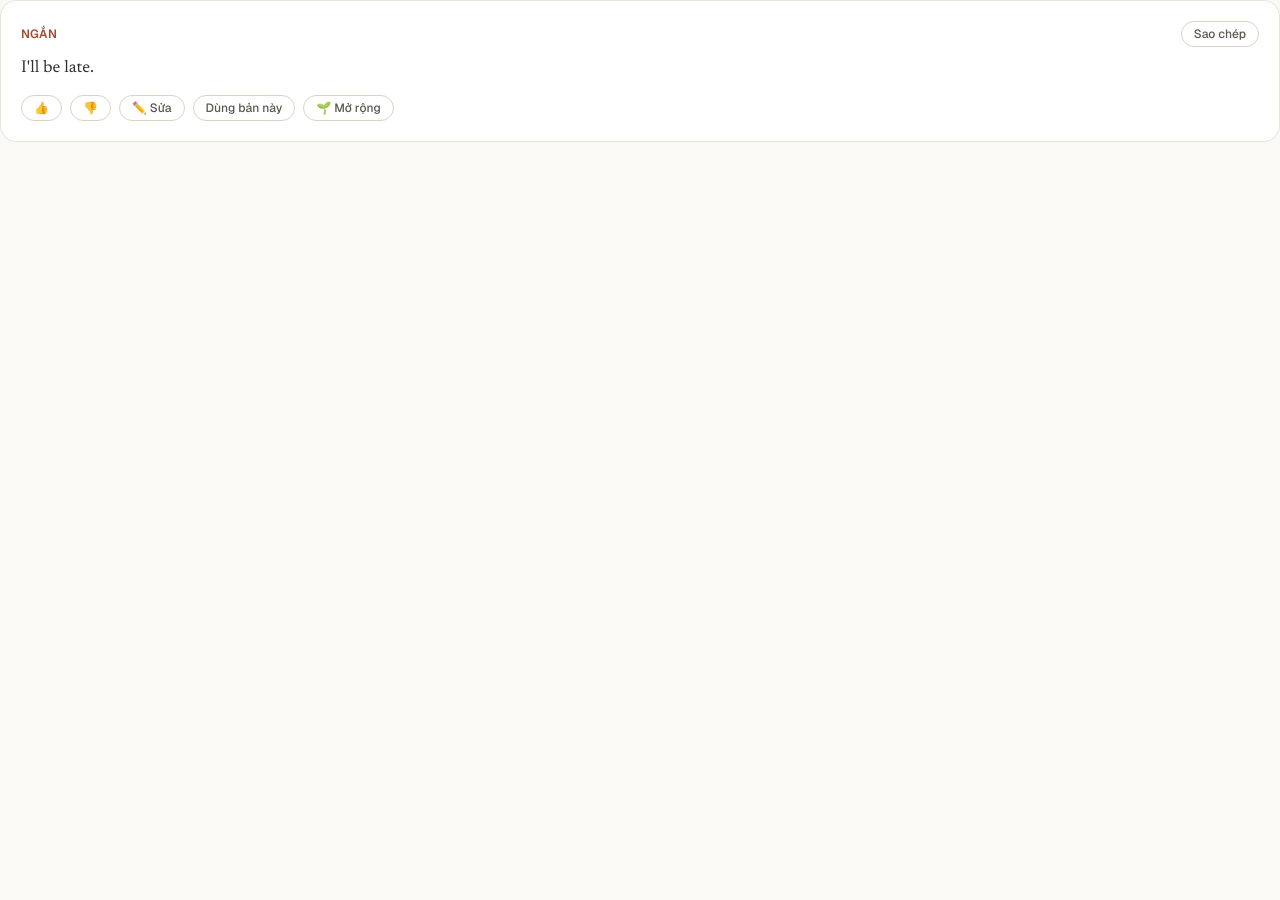
Test case: DevelopableOption › does not list a version twice when it was also made in this session
Expected: the button named "Bản nháp hay" is shown, [21, 95, 62, 121]
Click the button with aria-label "Mở rộng bản nháp này" at (349, 108), box [303, 95, 394, 121]
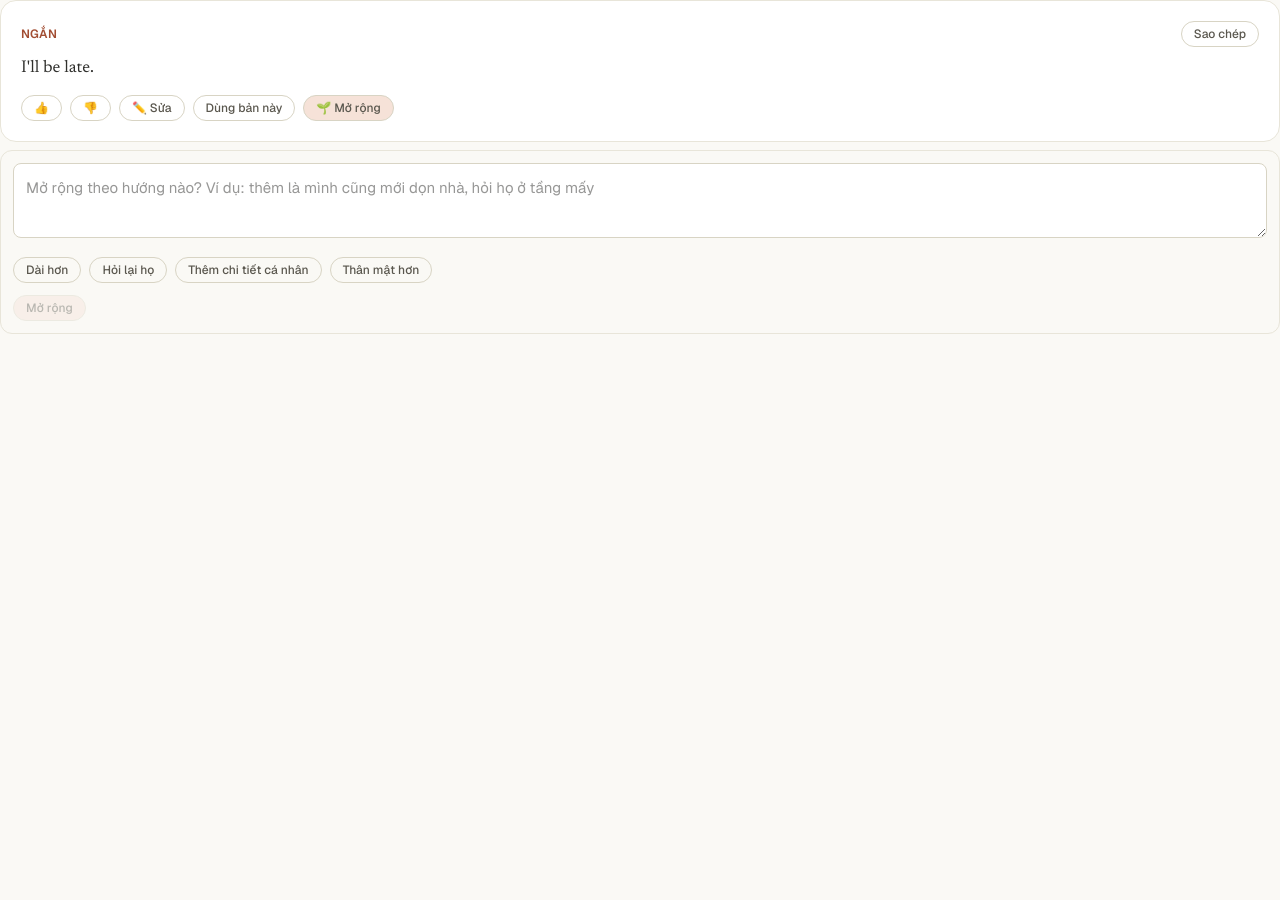
Click the button "Dài hơn" at (47, 270), box [13, 257, 81, 283]
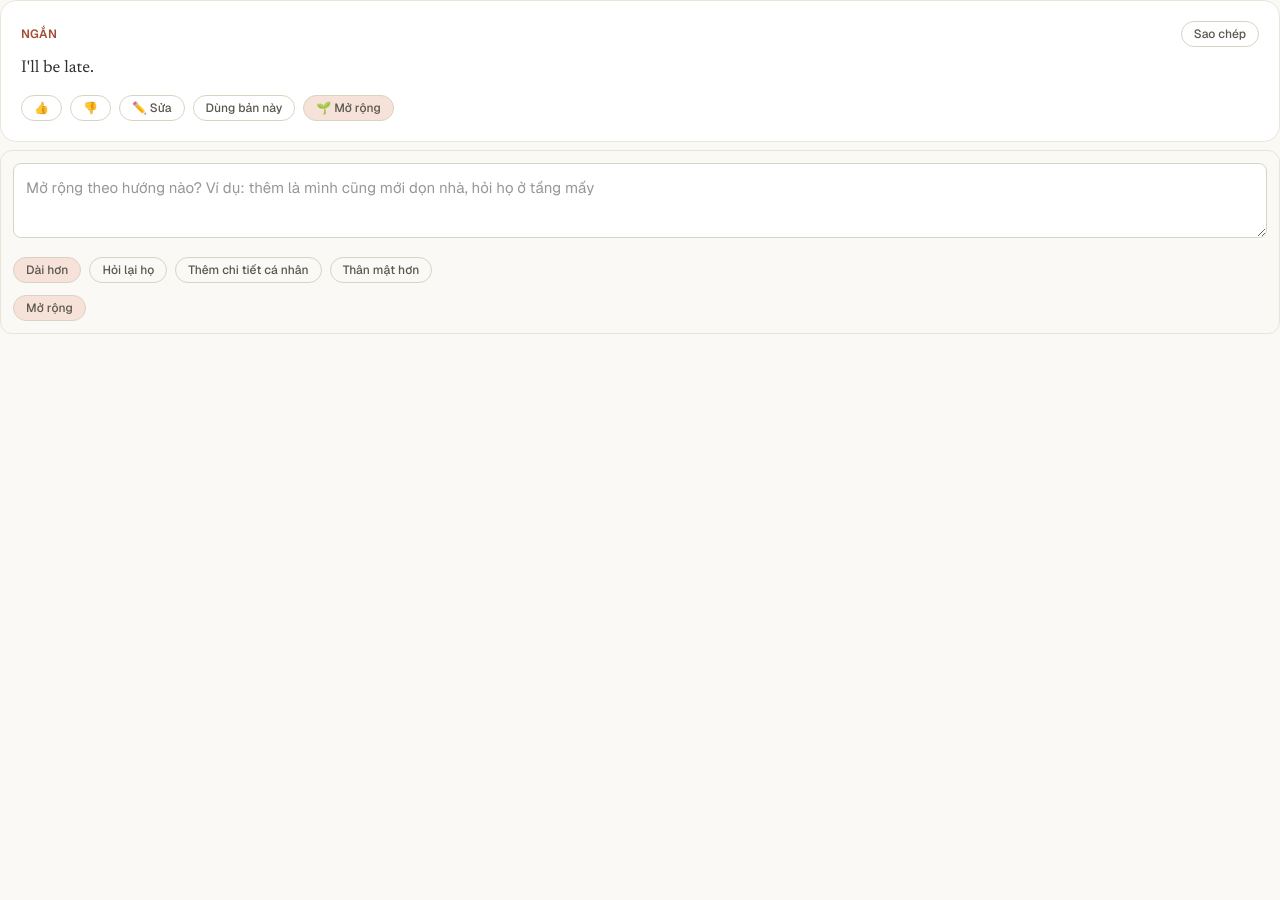
Click the button "Mở rộng" at (49, 308), box [13, 295, 86, 321]
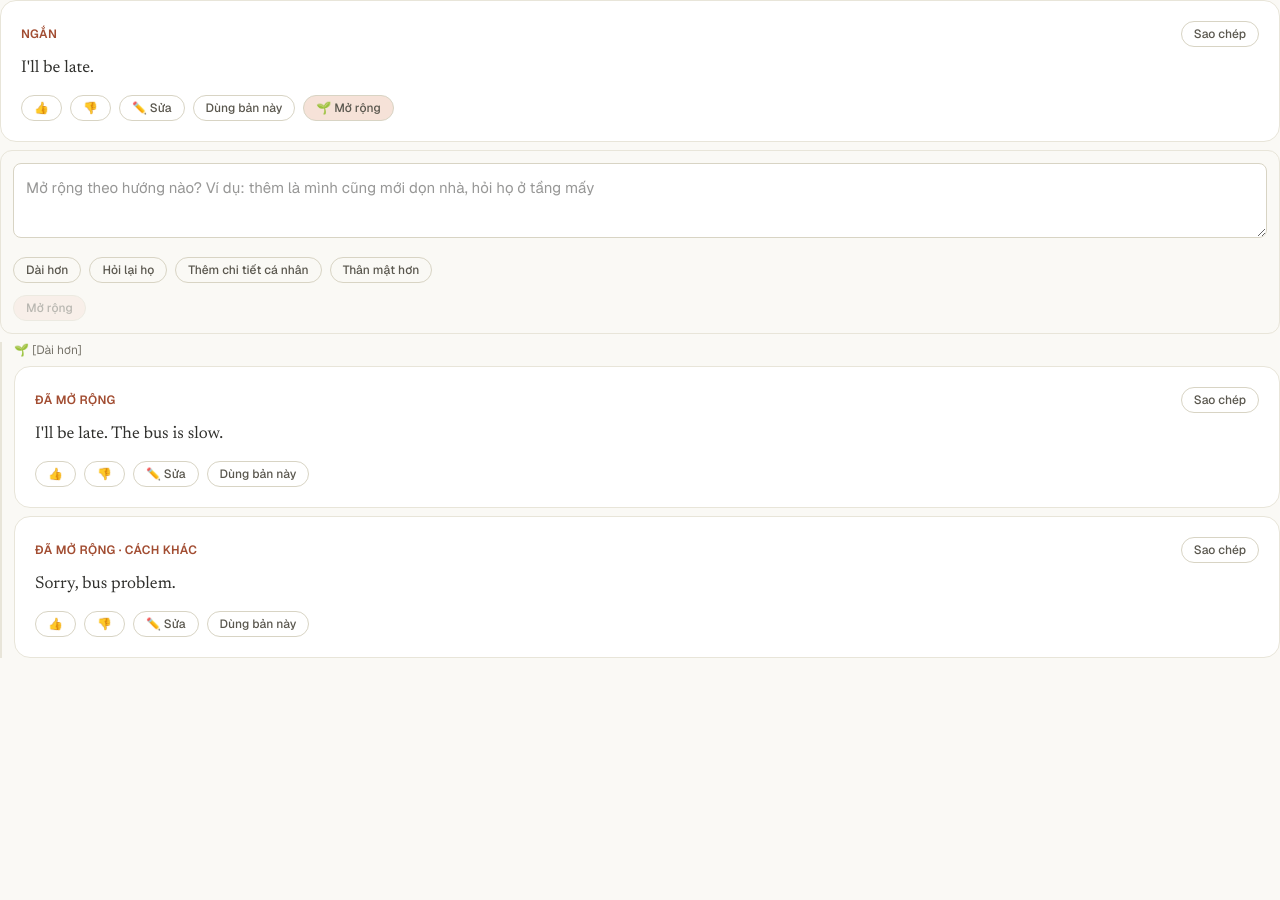
Expected: the text "Sorry, bus problem." is shown, [35, 576, 176, 593]
